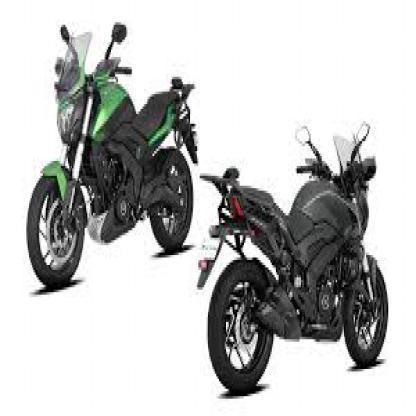Motorcycle: (194, 121, 395, 397), (22, 12, 200, 292)
